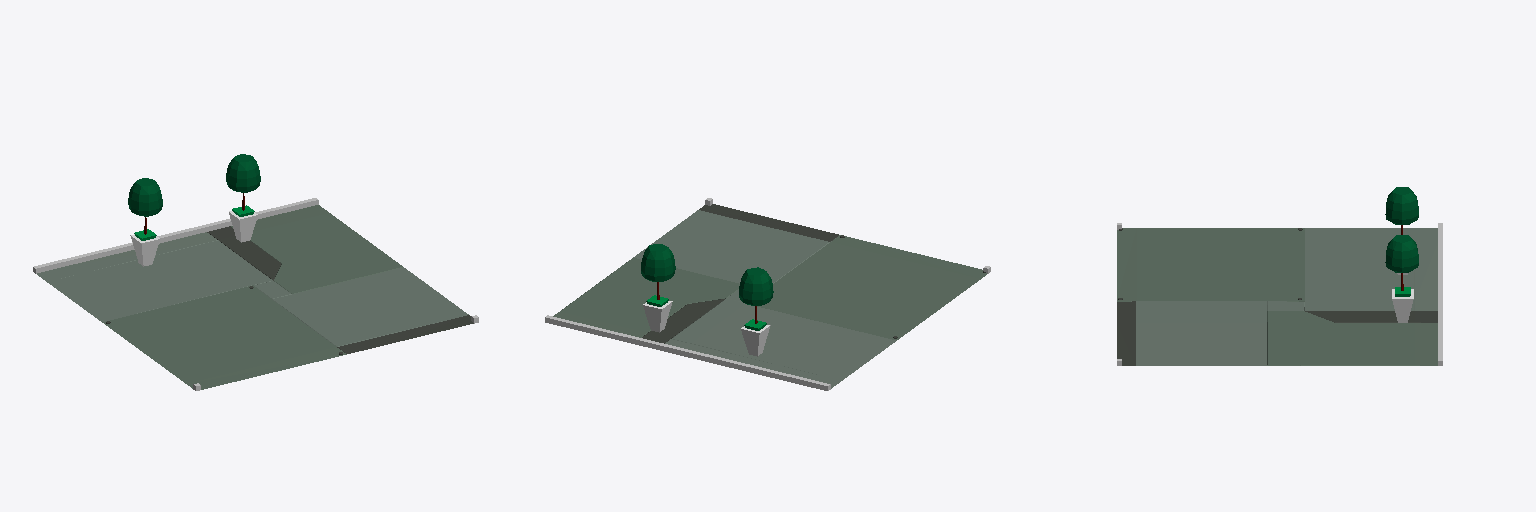
3 renders of one model, left to right at view 1: azimuth 30°, elevation 25°; view 2: azimuth 150°, elevation 25°; view 3: azimuth 270°, elevation 25°, orthographic.
Visible parts, largest first — view 1: Scifi_Panel_04_Plaza014_group4.019_Scifi_Panel_04_Plaza014_group, base_singlePot03.026_base_singlePot03.030, base_singlePot03.027_base_singlePot03.031, Cube.651_Cube.772; view 2: Scifi_Panel_04_Plaza014_group4.019_Scifi_Panel_04_Plaza014_group, Cube.651_Cube.772, base_singlePot03.027_base_singlePot03.031, base_singlePot03.026_base_singlePot03.030; view 3: Scifi_Panel_04_Plaza014_group4.019_Scifi_Panel_04_Plaza014_group, base_singlePot03.027_base_singlePot03.031, base_singlePot03.026_base_singlePot03.030, Cube.651_Cube.772.
Boxes of the visible parts, box(x1,y1,x2,y2) form: Scifi_Panel_04_Plaza014_group4.019_Scifi_Panel_04_Plaza014_group: box(37, 205, 473, 389); base_singlePot03.026_base_singlePot03.030: box(128, 178, 162, 266); base_singlePot03.027_base_singlePot03.031: box(226, 154, 260, 242); Cube.651_Cube.772: box(33, 198, 318, 273); Scifi_Panel_04_Plaza014_group4.019_Scifi_Panel_04_Plaza014_group: box(553, 204, 986, 388); Cube.651_Cube.772: box(545, 315, 830, 390); base_singlePot03.027_base_singlePot03.031: box(641, 244, 675, 332); base_singlePot03.026_base_singlePot03.030: box(739, 267, 773, 356); Scifi_Panel_04_Plaza014_group4.019_Scifi_Panel_04_Plaza014_group: box(1117, 228, 1437, 365); base_singlePot03.027_base_singlePot03.031: box(1385, 235, 1418, 322); base_singlePot03.026_base_singlePot03.030: box(1385, 187, 1418, 274); Cube.651_Cube.772: box(1438, 223, 1442, 365).
Size of the model in its own units: 10 by 2.78 by 10.